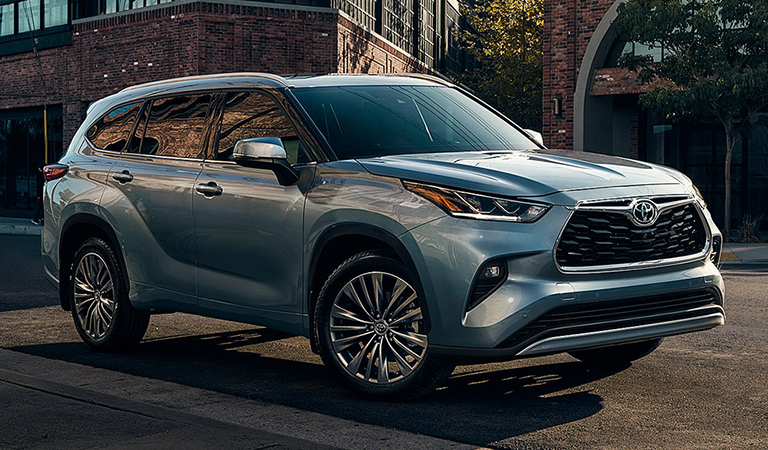car: (40, 70, 725, 399)
